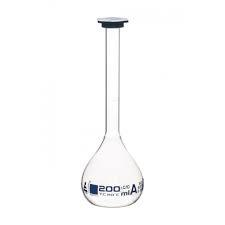Volumetric flask: (72, 8, 153, 208)
